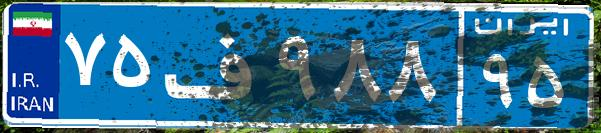5: (110, 28, 158, 105), (525, 38, 570, 115)
7: (57, 26, 110, 107)
8: (385, 28, 445, 110), (330, 28, 385, 110)
9: (273, 28, 330, 110), (475, 38, 525, 113)
ف: (158, 15, 273, 115)
